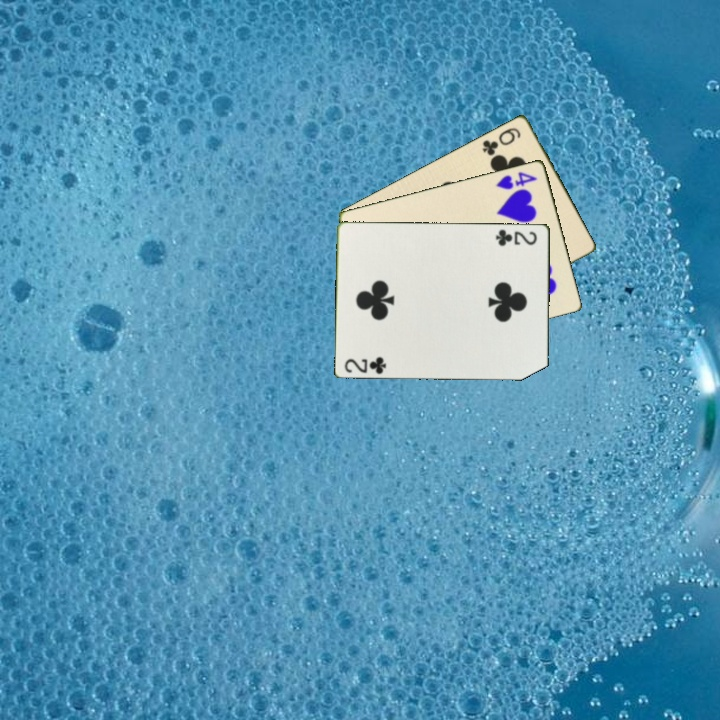2c: (341, 353, 390, 376), (492, 226, 540, 248)
4h: (492, 168, 540, 192)
6c: (479, 123, 524, 158)
